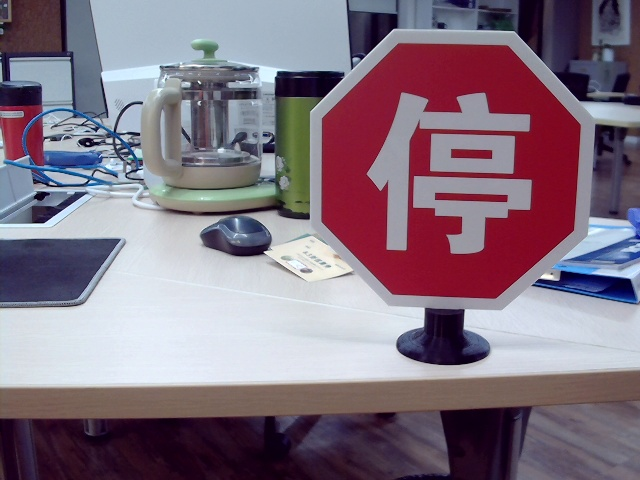stop: (365, 81, 532, 255)
